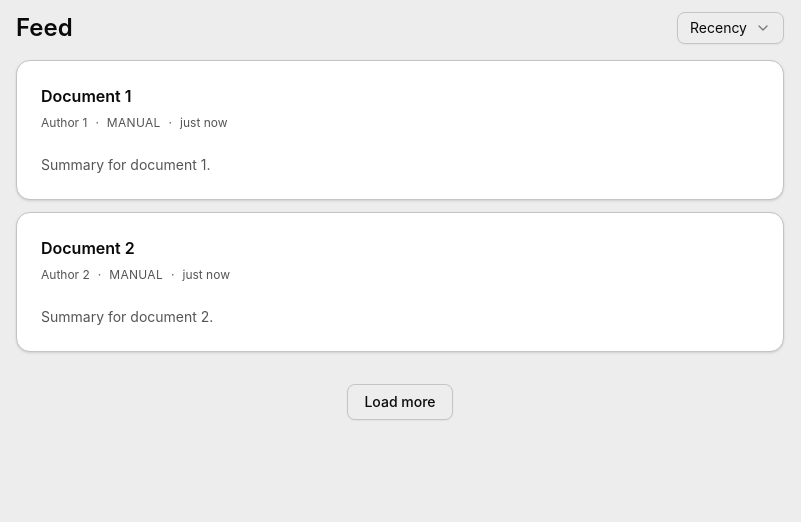
Test case: Feed › loads more pages via the cursor
The image size is (801, 522).
Expected: the link "Document 1" is shown, x1=41 y1=86 x2=132 y2=106
Expected: the link "Document 2" is shown, x1=41 y1=238 x2=135 y2=258
Click the button "Load more": click(400, 402) x1=347 y1=384 x2=452 y2=420
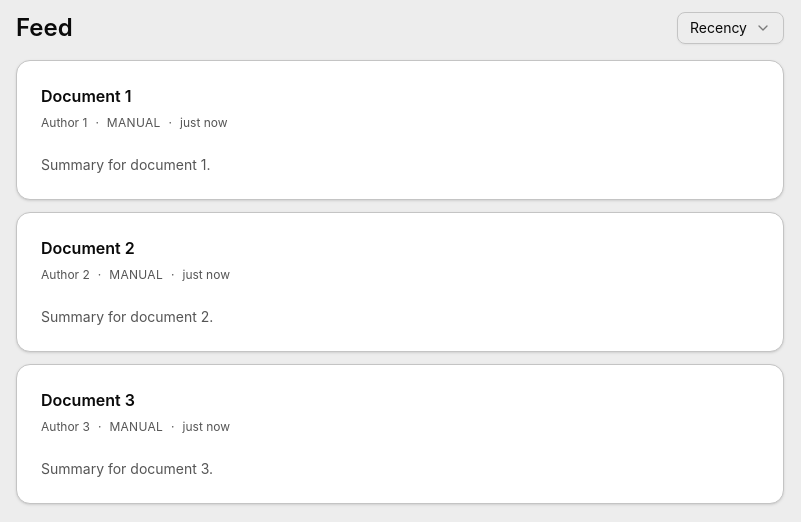
Result: the link "Document 3" is shown at x1=41 y1=390 x2=135 y2=410
Result: the button "Load more" is gone
